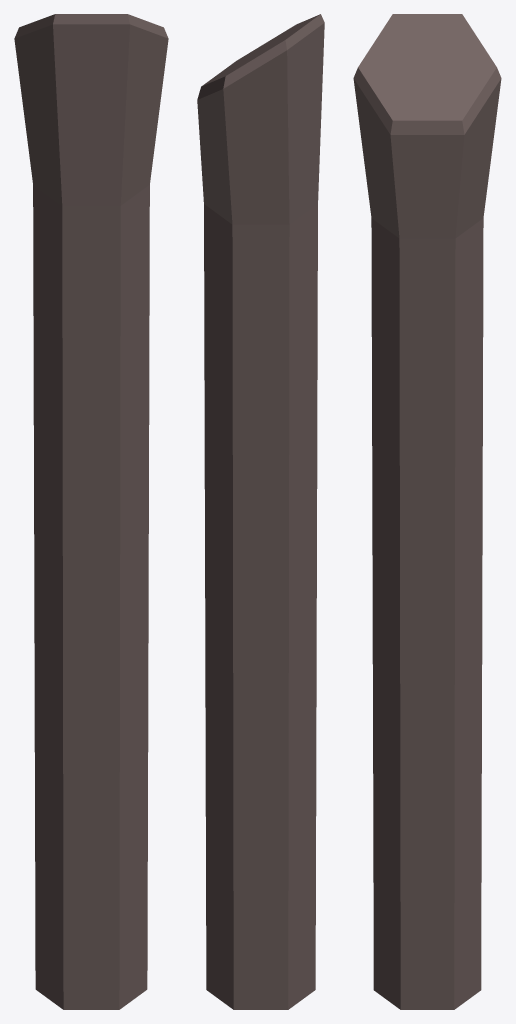
The model's file is fence5.fbx.
3 renders of one model, left to right at view 1: azimuth 90°, elevation 25°; view 2: azimuth 150°, elevation 25°; view 3: azimuth 270°, elevation 25°, orthographic. The views are drawn at different scales.
Parts seen in each view (by area): view 1: Props_fences.004; view 2: Props_fences.004; view 3: Props_fences.004.
Part boxes in pixels (x1,y1,x2,y2): Props_fences.004: [14, 14, 168, 1009]; Props_fences.004: [197, 14, 324, 1009]; Props_fences.004: [353, 14, 501, 1009].
Bounding box in the file's own units: 15.17 × 157 × 22.04.
